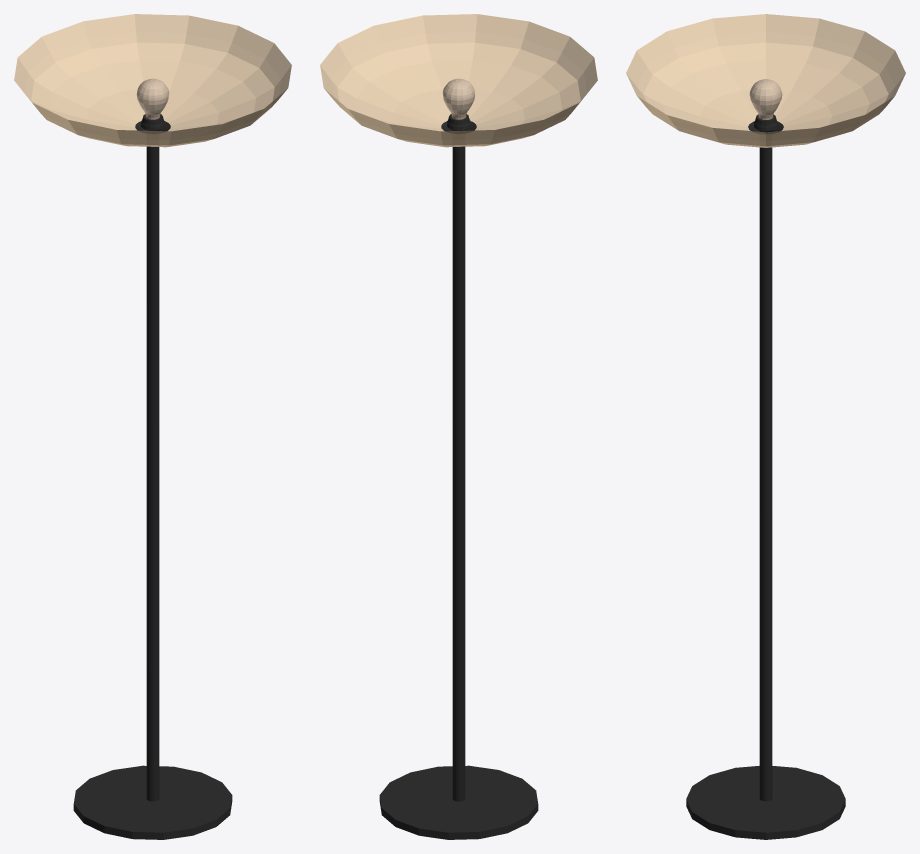
The model's file is Lamp_Tall_5.fbx.
3 renders of one model, left to right at view 1: azimuth 30°, elevation 25°; view 2: azimuth 150°, elevation 25°; view 3: azimuth 270°, elevation 25°, orthographic.
Parts seen in each view (by area): view 1: Lamp5; view 2: Lamp5; view 3: Lamp5.
Part boxes in pixels (x1,y1,x2,y2): Lamp5: (14, 14, 291, 839); Lamp5: (320, 14, 597, 839); Lamp5: (626, 14, 905, 839).
Size of the model in its own units: 190 by 550 by 190.
